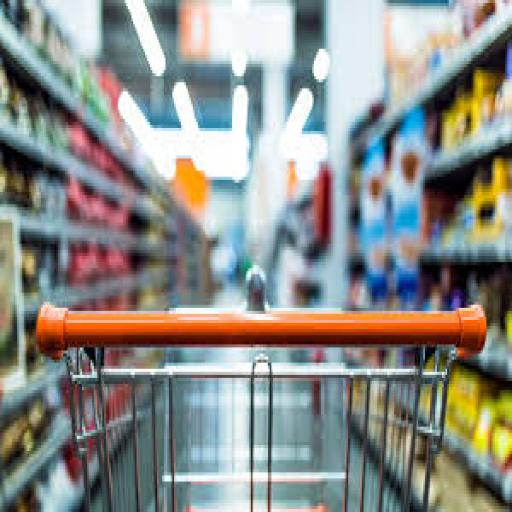shopping_cart: (37, 295, 486, 512)
